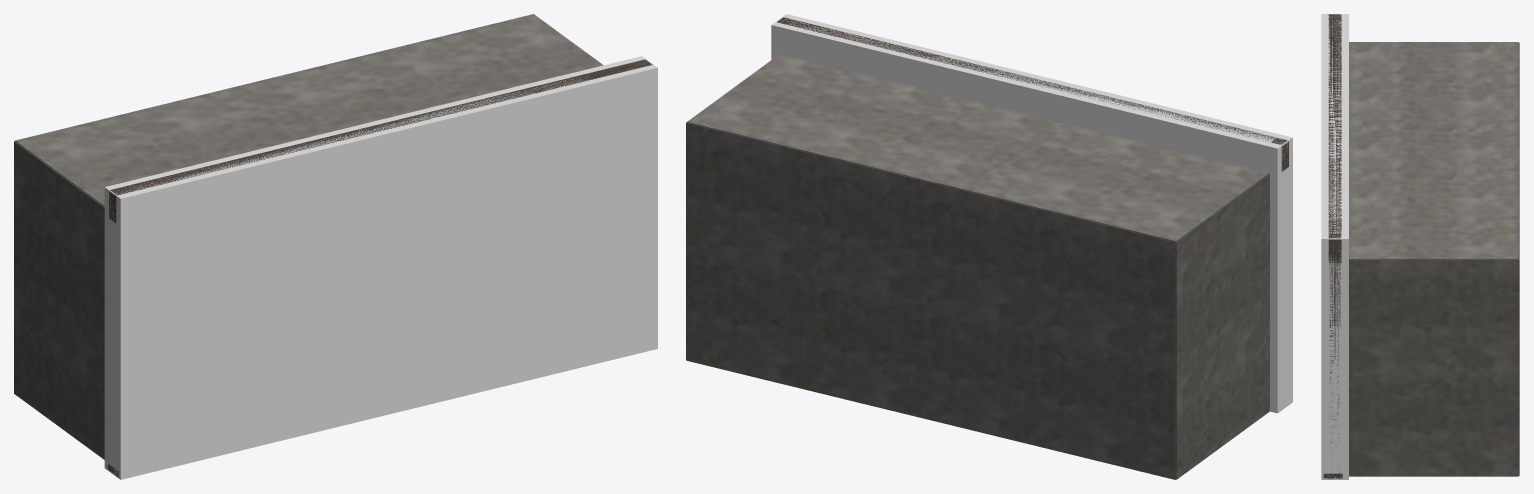
Rendered from sf05_front.gltf.
The picture shows the model from 3 angles, left to right: view 1: azimuth 30°, elevation 25°; view 2: azimuth 150°, elevation 25°; view 3: azimuth 270°, elevation 25°; orthographic projection. The views are drawn at different scales.
Parts seen in each view (by area): view 1: sf05_front_COL, sf05_front_LOD0; view 2: sf05_front_LOD0, sf05_front_COL; view 3: sf05_front_LOD0, sf05_front_COL.
Part boxes in pixels (<box>): sf05_front_COL: <box>104,56,657,479</box>; sf05_front_LOD0: <box>14,14,652,476</box>; sf05_front_LOD0: <box>686,17,1288,479</box>; sf05_front_COL: <box>771,14,1292,413</box>; sf05_front_LOD0: <box>1323,14,1519,478</box>; sf05_front_COL: <box>1321,14,1348,479</box>.
Size of what is drawn, in the model's own units: 5.8 by 2.9 by 2.16.
2 materials, 1 textured.
